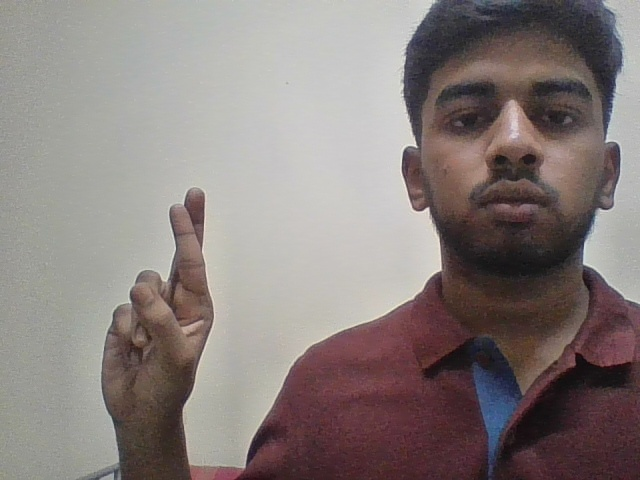R: (93, 159, 223, 438)
